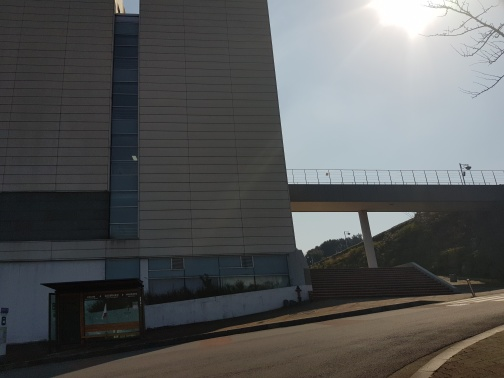Engineering College Building 4: (1, 2, 302, 318), (96, 15, 290, 306), (41, 273, 149, 348)
